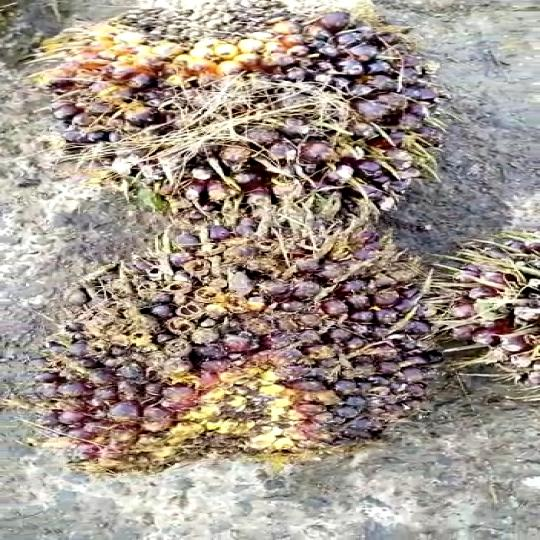kurang masak: (54, 231, 452, 480), (50, 7, 471, 226)
